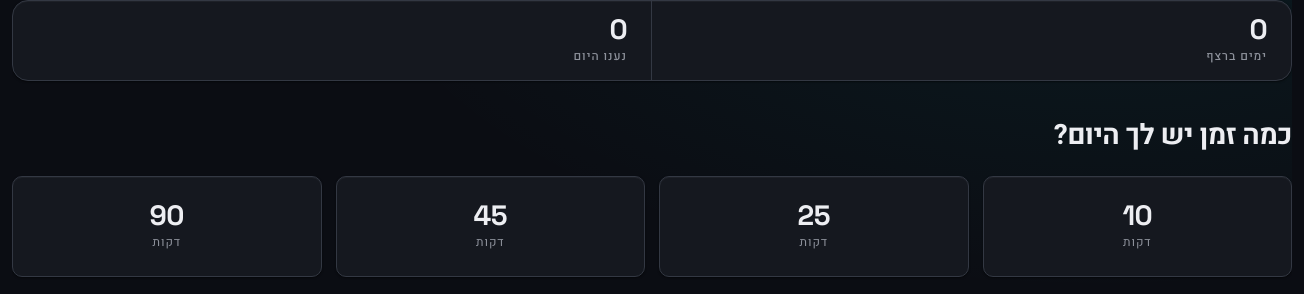
Test: TodayScreen shortfall notice › stays silent when the built session fills the requested budget
The width and height of the screenshot is (1304, 294).
Step 1. Click the button "10 דקות" → (1137, 227), box [982,176,1292,277]
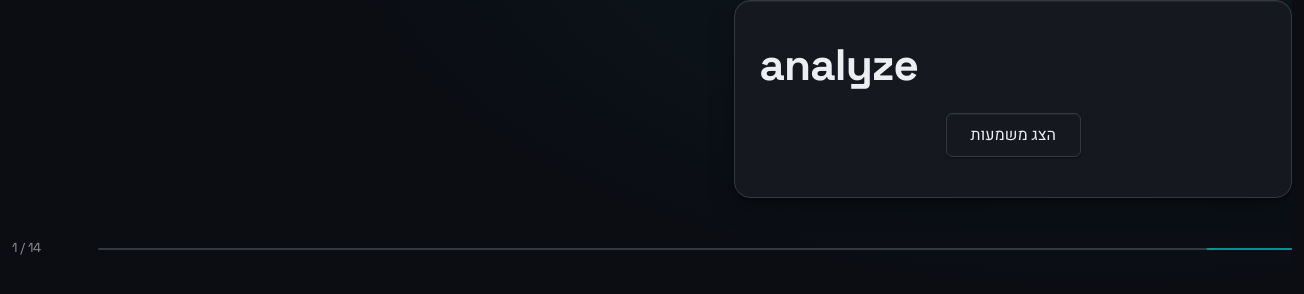
Expected: the element named "כרטיסיית מילה" is shown
